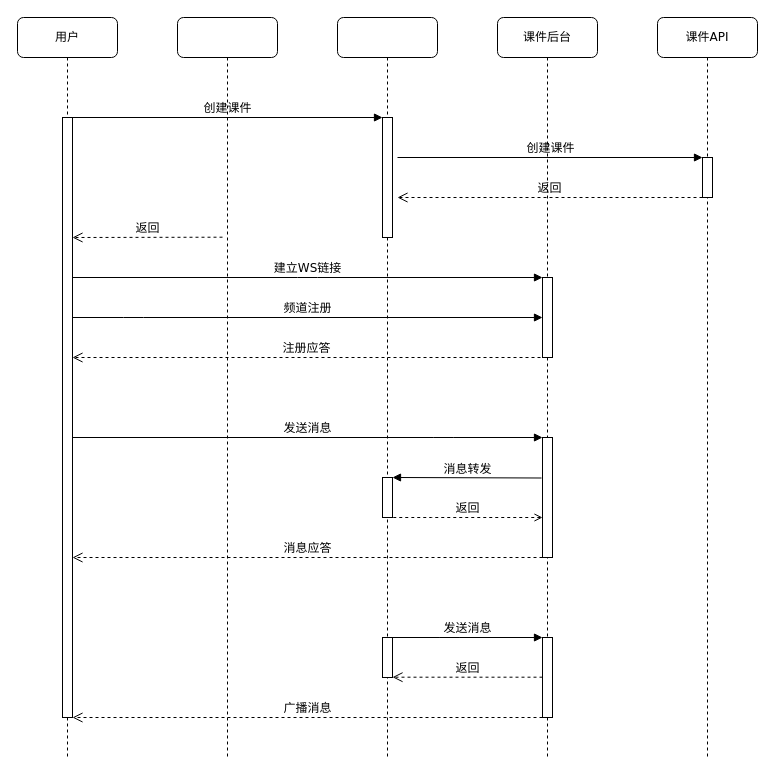
Image size: 775x775. Some labels were removed from this diagram. Here are the shapes that lost their labels. From the top down, the box of each, then its label:
(176, 16, 278, 758): 课件编辑器
(336, 16, 438, 758): 对接业务后台
